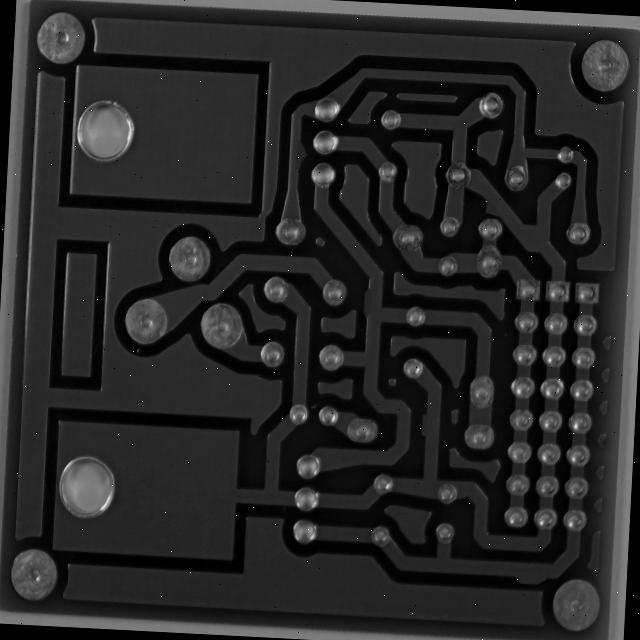spur: (286, 134, 312, 173), (508, 567, 552, 590), (359, 284, 384, 320), (481, 194, 511, 219), (416, 410, 436, 442)
